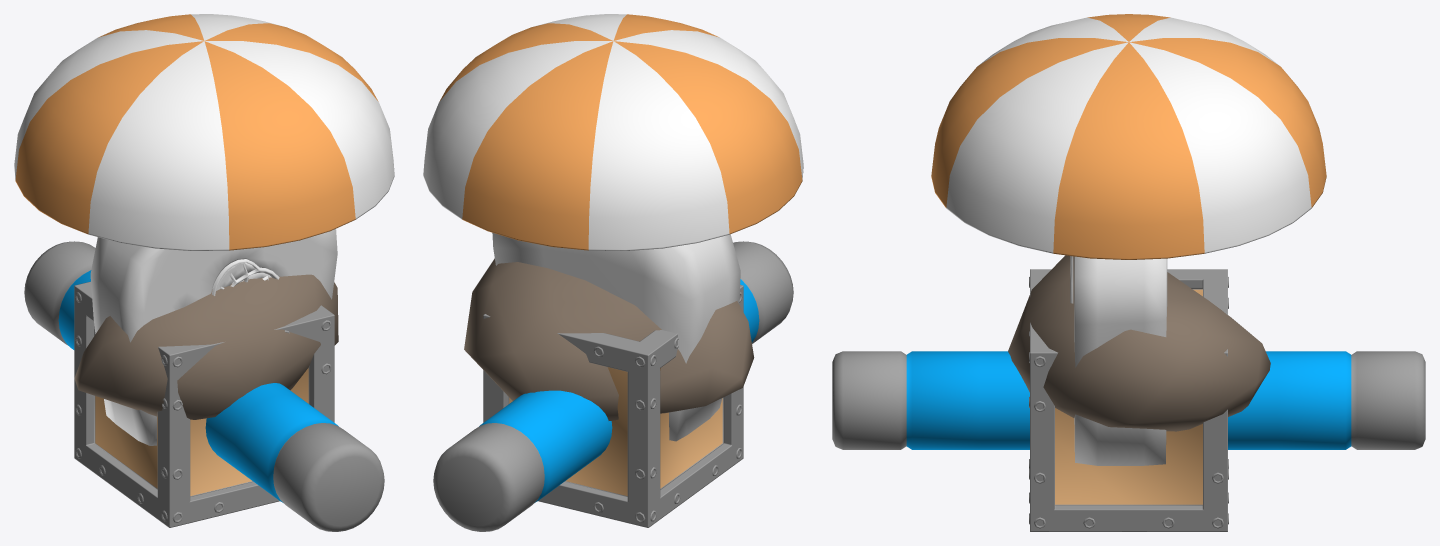
Rendered from props.glb.
3 views of the same model, side by side, from view 1: azimuth 30°, elevation 25°; view 2: azimuth 150°, elevation 25°; view 3: azimuth 270°, elevation 25° (orthographic). The views are drawn at different scales.
Parts seen in each view (by area): view 1: parasol, rock, glowstick, box, FishStone, FishStoneGlow; view 2: parasol, rock, box, glowstick, FishStone; view 3: parasol, glowstick, rock, box, FishStone.
Boxes of the visible parts, left/top/right/bottom form: parasol: left=14, top=14, right=394, bottom=250; rock: left=74, top=274, right=338, bottom=419; glowstick: left=24, top=241, right=384, bottom=531; box: left=74, top=281, right=334, bottom=527; FishStone: left=90, top=229, right=337, bottom=445; FishStoneGlow: left=212, top=259, right=279, bottom=295; parasol: left=423, top=14, right=803, bottom=250; rock: left=464, top=258, right=754, bottom=420; box: left=483, top=285, right=743, bottom=527; glowstick: left=433, top=241, right=793, bottom=531; FishStone: left=492, top=232, right=740, bottom=441; parasol: left=931, top=14, right=1326, bottom=259; glowstick: left=832, top=351, right=1425, bottom=449; rock: left=1008, top=255, right=1270, bottom=431; box: left=1029, top=269, right=1228, bottom=531; FishStone: left=1074, top=256, right=1167, bottom=465.
Bounding box in the file's own units: 4 × 5 × 6.
